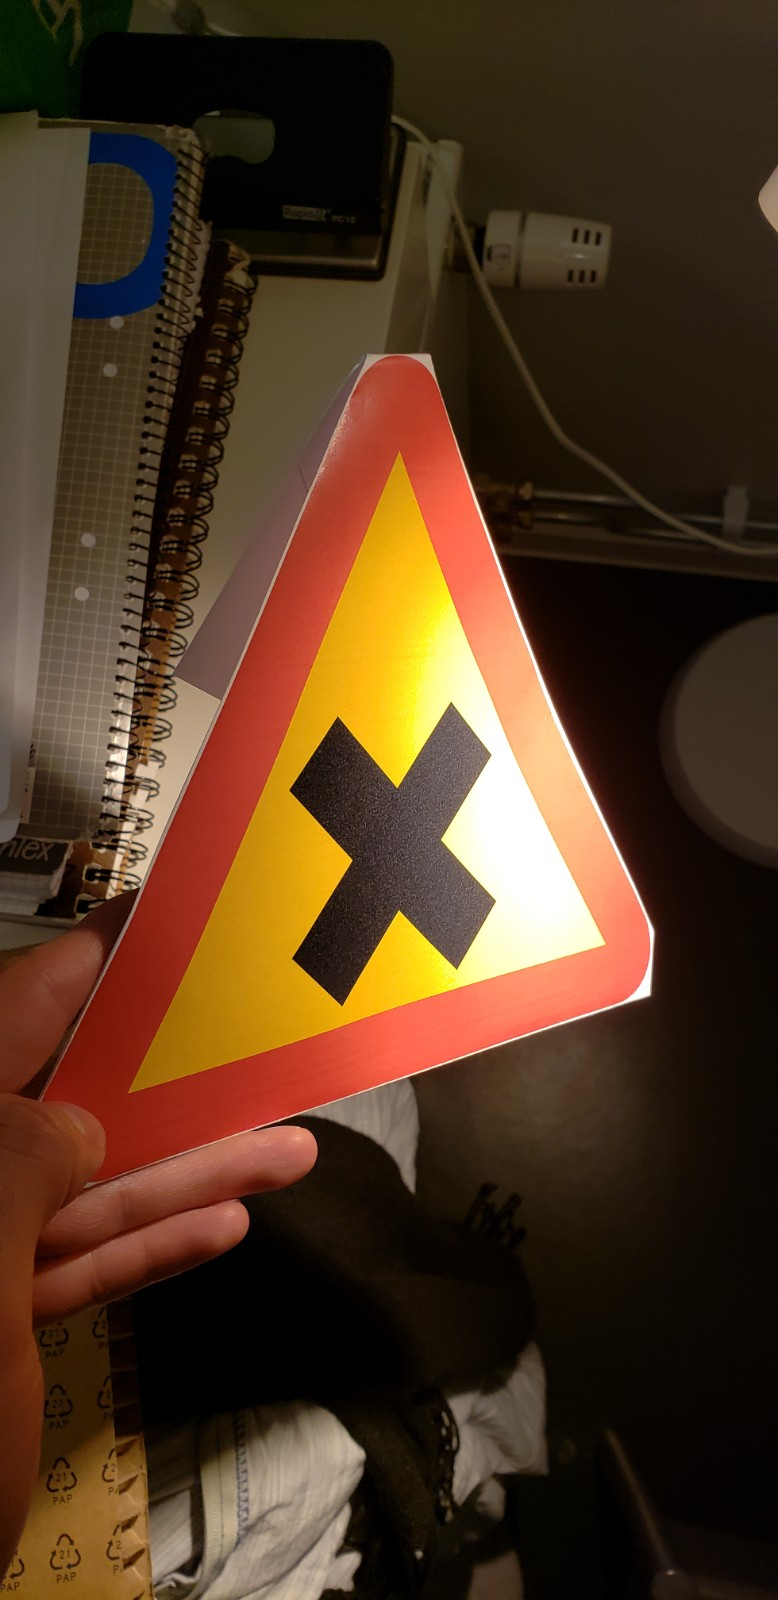junction: (42, 330, 694, 1170)
